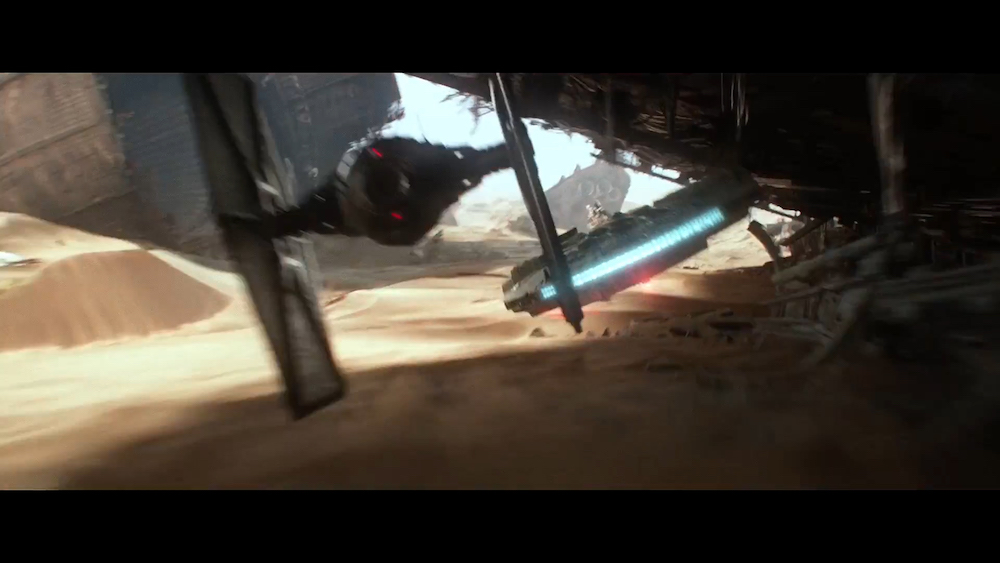Millennium Falcon: (499, 161, 769, 320)
Tie Fighter: (178, 75, 585, 427)
